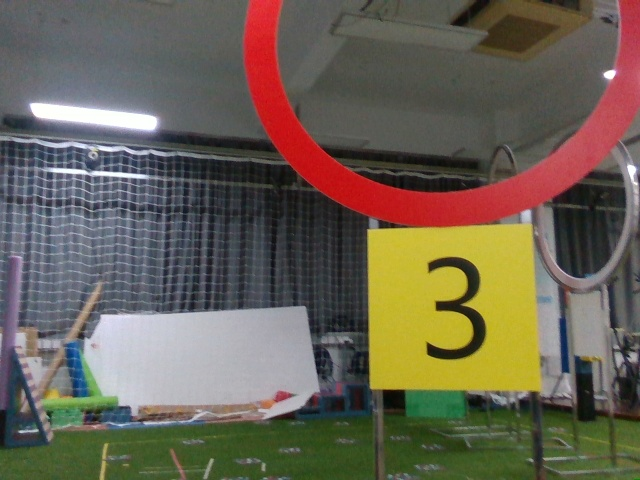target: (370, 235, 540, 398)
